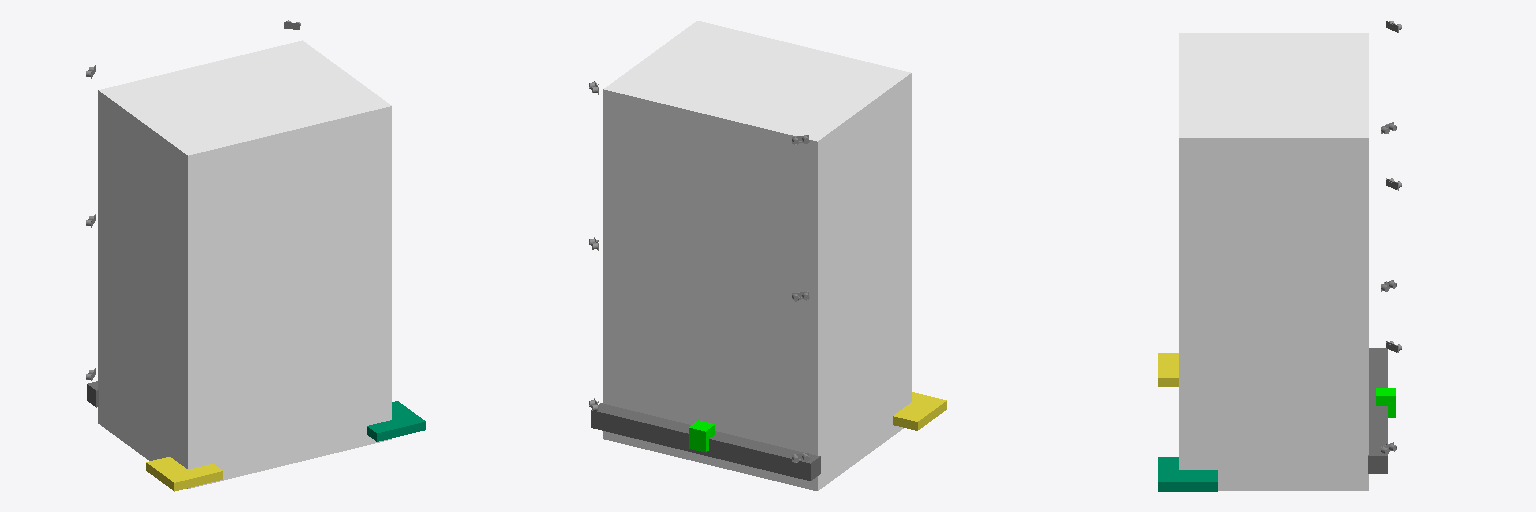
The robot description file, URDF, robot "blastoise":
<robot name="blastoise">
  <link name="base_link">
   <visual> 
     <geometry>
       <box size="0.635 0.4826 0.9906" />
     </geometry>
     <material name="white">
        <color rgba="1 1 1 1"/>
     </material>
   </visual>
   <collision> 
     <geometry>
       <box size="0.650 0.0508 0.9906" />
     </geometry>
   </collision>    
    <inertial>
       <mass value="54"/>
       <inertia ixx="0.4" ixy="0.0" ixz="0.0" iyy="0.4" iyz="0.0" izz="0.2"/>
    </inertial>
  </link>


  <link name="front_beam">
   <visual> 
    <geometry>
      <box size="0.650 0.0508 0.0508" />
      </geometry>
       <material name="grey">
        <color rgba="0.5 0.5 0.5 1"/>
       </material>
     </visual>
  </link> 


  <link name="base_sonar_left"> 
    <visual>
     <geometry>
       <mesh filename="package://srl_robot_description/meshes/hc-sr04-ultrasonic-sensor.dae" scale="0.001 0.001 0.001"/>
     </geometry>
     <origin rpy="-1.5707 0 -0.78535"/>
     </visual>
  </link>
  
  <link name="base_sonar_right"> 
    <visual>
     <geometry>
      <mesh filename="package://srl_robot_description/meshes/hc-sr04-ultrasonic-sensor.dae" scale="0.001 0.001 0.001"/>
     </geometry>
     <origin rpy="-1.5707 0 0.78535"/>
     </visual>
  </link>

  <link name="mid_sonar_left"> 
    <visual>
     <geometry>
       <mesh filename="package://srl_robot_description/meshes/hc-sr04-ultrasonic-sensor.dae" scale="0.001 0.001 0.001"/>
     </geometry>
     <origin rpy="-1.5707 0 -0.78535"/>
     </visual>
  </link>
  
  <link name="mid_sonar_right"> 
    <visual>
     <geometry>
      <mesh filename="package://srl_robot_description/meshes/hc-sr04-ultrasonic-sensor.dae" scale="0.001 0.001 0.001"/>
     </geometry>
     <origin rpy="-1.5707 0 0.78535"/>
     </visual>
  </link>

  <link name="top_sonar_left"> 
    <visual>
     <geometry>
       <mesh filename="package://srl_robot_description/meshes/hc-sr04-ultrasonic-sensor.dae" scale="0.001 0.001 0.001"/>
     </geometry>
     <origin rpy="-1.5707 0 -0.78535"/>
     </visual>
  </link>
  
  <link name="top_sonar_right"> 
    <visual>
     <geometry>
      <mesh filename="package://srl_robot_description/meshes/hc-sr04-ultrasonic-sensor.dae" scale="0.001 0.001 0.001"/>
     </geometry>
     <origin rpy="-1.5707 0 0.78535"/>
     </visual>
  </link>

  <link name="left_wheel">
    <visual>
      <geometry>
        <mesh filename="package://srl_robot_description/meshes/magni_wheel.dae"/>
      </geometry>
      <origin rpy="0 0 -1.5707" xyz="-0.11 -0.16 0.055"/>
    </visual>
   </link>

  <link name="right_wheel">
    <visual>
      <geometry>
        <mesh filename="package://srl_robot_description/meshes/magni_wheel.dae"/>
      </geometry>
      <origin rpy="0 0 1.5707" xyz="0.11 0.16 0.055"/>
    </visual>
   </link>

  <link name="left_caster_plate">
   <visual>
      <geometry>
        <box size="0.1524 0.1524 0.0254"/>
      </geometry>
      <origin rpy="0 0 0" />
   </visual>
  </link>
 
  <link name="right_caster_plate">
   <visual>
      <geometry>
        <box size="0.1524 0.1524 0.0254"/>
      </geometry>
      <origin rpy="0 0 0" />
   </visual> 
  </link>

  <link name="left_caster"> 
    <visual>
      <geometry>
        <mesh filename="package://srl_robot_description/meshes/magni_caster.dae" />
      </geometry>
      <origin rpy="0 0 -1.5707" xyz="0.1155 0.16 0.0408" />
      </visual>
  </link>
  
 <link name="right_caster"> 
    <visual>
      <geometry>
        <mesh filename="package://srl_robot_description/meshes/magni_caster.dae" />
      </geometry>
      <origin rpy="0 0 -1.5707" xyz="0.1155 0.16 0.0408" />
      </visual>
  </link>

  <link name="base_laser_link">
    <visual>
      <geometry>
        <box size="0.05 0.05 0.06" />
      </geometry>
     <material name="green">
        <color rgba="0 1 0 1"/>
     </material>
    </visual>
    <inertial>
      <mass value="0.000001" />
      <origin xyz="0 0 0" />
      <inertia ixx="0.0001" ixy="0.0" ixz="0.0"
        iyy="0.0001" iyz="0.0"
        izz="0.0001" />
    </inertial>
  </link>

<joint name="left_caster_plate_joint" type="fixed">
    <parent link="base_link" />
    <child link="left_caster_plate" />
    <origin xyz="0.3150 -0.22 -0.45" />
</joint>

<joint name="right_caster_plate_joint" type="fixed">
    <parent link="base_link" />
    <child link="right_caster_plate" />
    <origin xyz="-0.3150 -0.22 -0.45" />
</joint>

<joint name="front_beam_joint" type="fixed">
    <parent link="base_link" />
    <child link="front_beam" />
    <origin xyz="0 0.2648 -0.42" />
</joint>    

<joint name="left_caster_joint" type="continuous" >
    <parent link="left_caster_plate" />
    <child  link="left_caster" />
    <origin xyz="0.03873 -0.0507 0" />
    <axis xyz="0 0 1" />
</joint> 
   
<joint name="right_caster_joint" type="continuous" >
    <parent link="right_caster_plate" />
    <child link="right_caster" />
    <origin xyz="-0.03873 -0.0507 0" />
    <axis xyz="0 0 1" />
</joint>

<joint name="left_wheel_joint" type="continuous">
    <parent link="base_link" />
    <child link="left_wheel" />
    <origin xyz="0.3150 0.12 -0.45" />
</joint>

<joint name="right_wheel_joint" type="continuous">
    <parent link="base_link" />
    <child link="right_wheel" />
    <origin xyz="-0.3150 0.12 -0.45" />
    </joint>

<joint name="laser" type="fixed">
    <origin xyz="0 0.2848 -0.396" />
    <parent link="base_link" />
    <child link="base_laser_link" />
  </joint>

<joint name="base_sonar_left_joint" type="fixed">
    <parent link="front_beam" />
    <child link="base_sonar_left" />
    <origin xyz="0.2950 0.0384 0.0508" />
  </joint>

<joint name="base_sonar_right_joint" type="fixed">
    <parent link="front_beam" />
    <child link="base_sonar_right" />
    <origin xyz="-0.3150 .0192 0.0508" />
  </joint>


<joint name="mid_sonar_right_joint" type="fixed">
    <parent link="front_beam" />
    <child link="mid_sonar_right" />
    <origin xyz="-0.3150 .0192 0.508" />
  </joint>

<joint name="mid_sonar_left_joint" type="fixed">
    <parent link="front_beam" />
    <child link="mid_sonar_left" />
    <origin xyz="0.2950 0.0384 0.508" />
  </joint>

<joint name="top_sonar_right_joint" type="fixed">
    <parent link="front_beam" />
    <child link="top_sonar_right" />
    <origin xyz="-0.3150 .0192 0.9508" />
  </joint>

<joint name="top_sonar_left_joint" type="fixed">
    <parent link="front_beam" />
    <child link="top_sonar_left" />
    <origin xyz="0.2950 0.0384 0.9508" />
  </joint>

 <transmission name="left_wheel_trans" type="SimpleTransmission">
    <type>transmission_interface/SimpleTransmission</type>
    <actuator name="left_wheel_motor">
        <mechanicalReduction>1</mechanicalReduction>
    </actuator>
    <joint name="left_wheel">
      <hardwareInterface>VelocityJointInterface</hardwareInterface>
    </joint>
  </transmission>

  <transmission name="right_wheel_trans" type="SimpleTransmission">
    <type>transmission_interface/SimpleTransmission</type>
    <actuator name="right_wheel_motor">
        <mechanicalReduction>1</mechanicalReduction>
    </actuator>
    <joint name="right_wheel">
      <hardwareInterface>VelocityJointInterface</hardwareInterface>
    </joint>
  </transmission>


</robot>

--- Render facts (derived) ---
The picture shows the robot from 3 angles, left to right: view 1: azimuth 30°, elevation 25°; view 2: azimuth 150°, elevation 25°; view 3: azimuth 270°, elevation 25°; orthographic projection.
Robot: blastoise — 15 links, 14 joints (4 continuous, 10 fixed); root link base_link; default pose: all joints at 0.
Links seen in each view (by area): view 1: base_link, right_caster_plate, left_caster_plate; view 2: base_link, front_beam, right_caster_plate, base_laser_link; view 3: base_link, front_beam, left_caster_plate, right_caster_plate.
Link boxes in pixels (left/top/right/bottom): base_link: left=98, top=40, right=391, bottom=488; right_caster_plate: left=146, top=457, right=222, bottom=491; left_caster_plate: left=367, top=401, right=425, bottom=441; base_link: left=603, top=21, right=911, bottom=490; front_beam: left=591, top=403, right=820, bottom=480; right_caster_plate: left=893, top=392, right=946, bottom=430; base_laser_link: left=689, top=420, right=714, bottom=452; base_link: left=1179, top=33, right=1368, bottom=490; front_beam: left=1368, top=348, right=1387, bottom=473; left_caster_plate: left=1158, top=457, right=1217, bottom=491; right_caster_plate: left=1158, top=353, right=1178, bottom=386.
Bounding box of the posed robot: 0.7824 × 0.622 × 1.03 m (x, y, z).
6 mesh visuals loaded from 3 distinct referenced files (1 Collada DAE); not drawn: 4 (reference not matched to a file when rendering).